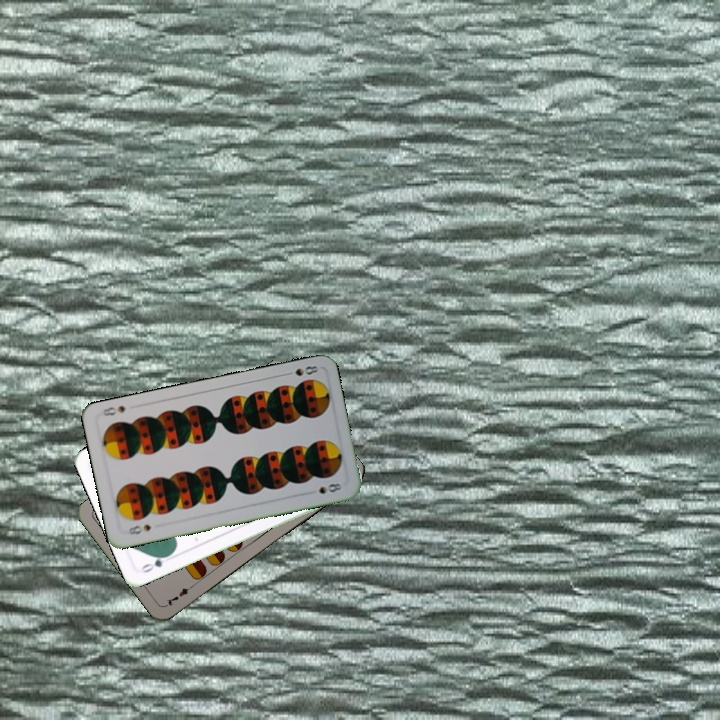E7: (162, 580, 197, 608)
GO: (137, 550, 174, 576)
S8: (280, 362, 320, 379), (123, 520, 154, 537)
